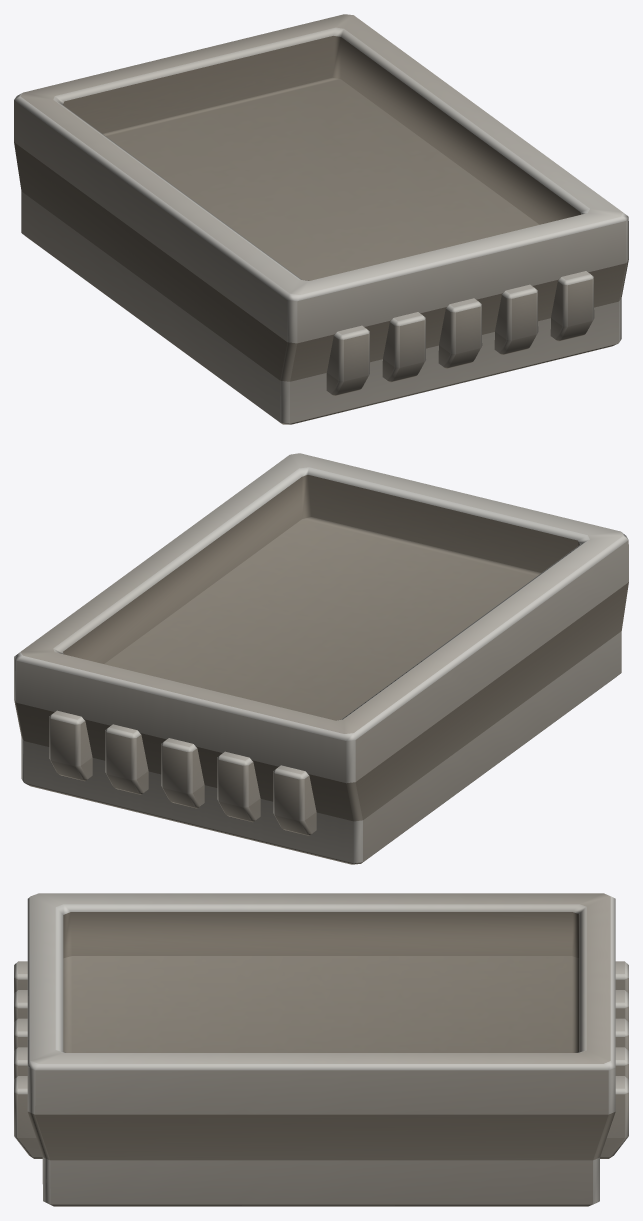
File: appartment_type1_roof_type2_x3.fbx
3 views of the same model, one above another, from view 1: azimuth 30°, elevation 25°; view 2: azimuth 150°, elevation 25°; view 3: azimuth 270°, elevation 25° (orthographic). The views are drawn at different scales.
Parts seen in each view (by area): view 1: appartment_type1_roof_type2_x3; view 2: appartment_type1_roof_type2_x3; view 3: appartment_type1_roof_type2_x3.
Boxes of the visible parts, left/top/right/bottom form: appartment_type1_roof_type2_x3: left=14, top=14, right=628, bottom=424; appartment_type1_roof_type2_x3: left=14, top=453, right=628, bottom=864; appartment_type1_roof_type2_x3: left=14, top=893, right=628, bottom=1206.
Bounding box in the file's own units: 610 × 232 × 907.
